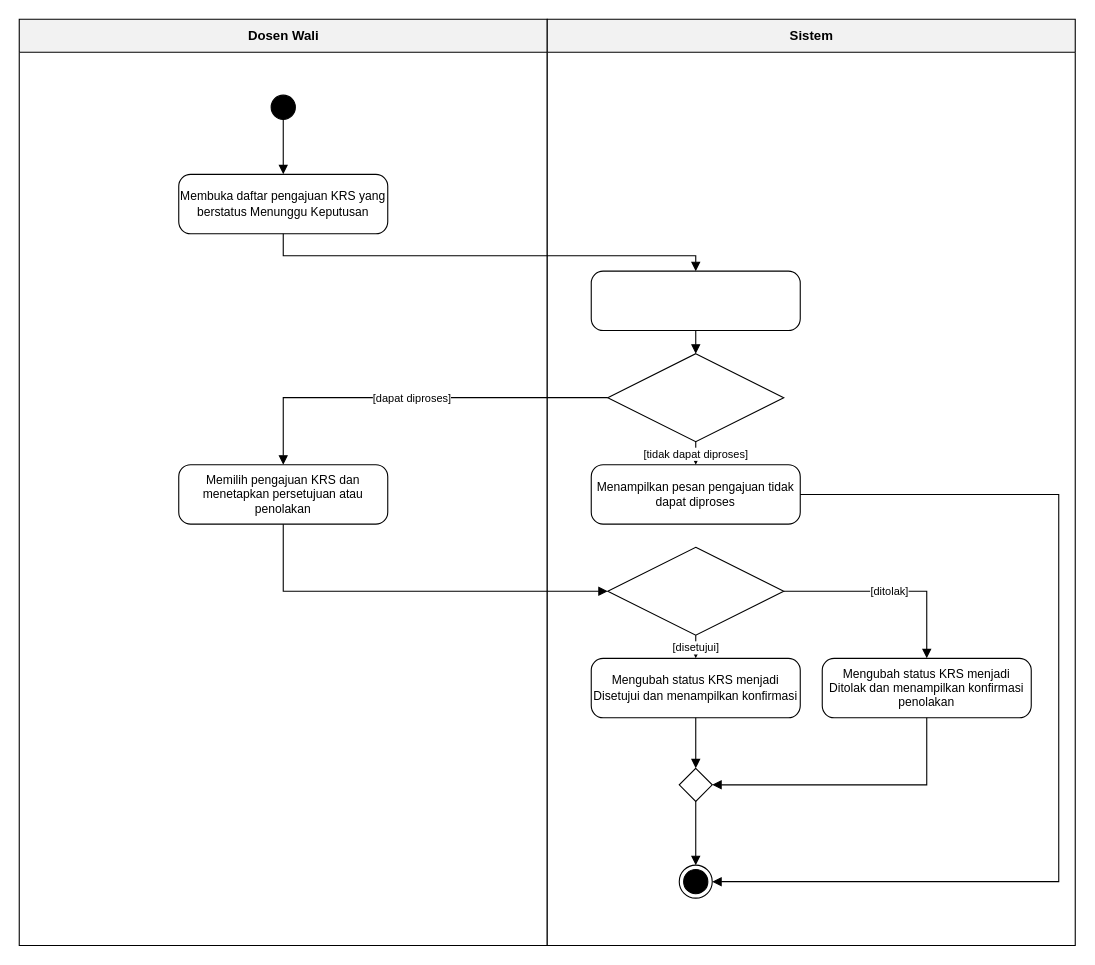
Some shapes in this 1095 by 965 pixel diagram are drawn without their labels. The shapes that lost their labels are listed below. From the top down, each one's centre as x and y in pixels, then its label:
At point (695, 300): "Menampilkan daftar pengajuan KRS yang berstatus Menunggu Keputusan".
At point (695, 397): "Pengajuan KRS dapat diproses?".
At point (695, 590): "Pengajuan KRS disetujui?".
